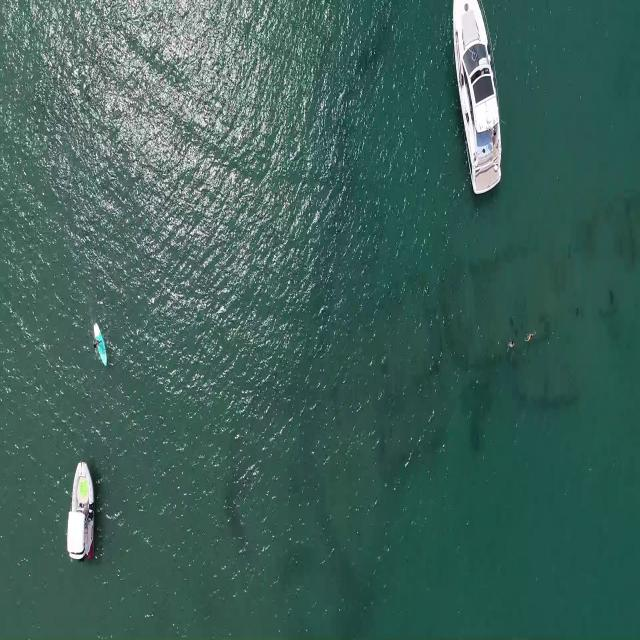boat: (450, 2, 505, 195), (65, 456, 97, 568)
person: (525, 330, 538, 344), (91, 336, 102, 350), (508, 340, 516, 350)
surfboard: (93, 321, 108, 372)
